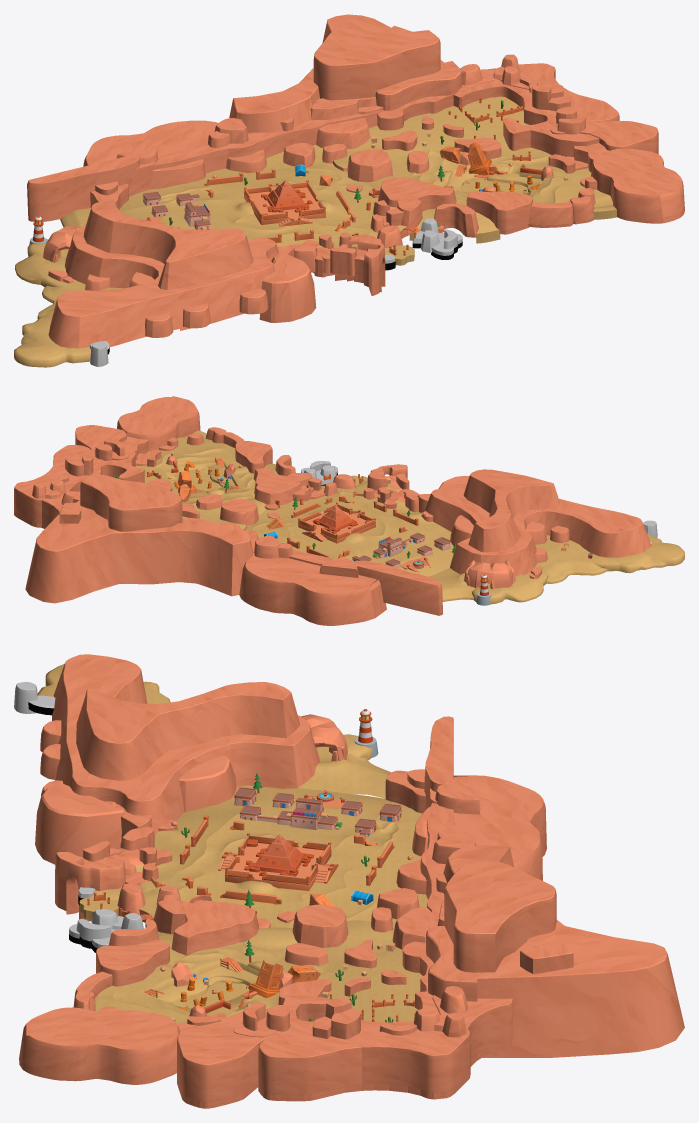
The model's file is Desert_island_V3.fbx.
3 renders of one model, top to bottom at view 1: azimuth 30°, elevation 25°; view 2: azimuth 150°, elevation 25°; view 3: azimuth 270°, elevation 25°, orthographic. The views are drawn at different scales.
Parts seen in each view (by area): view 1: polySurface1883; view 2: polySurface1883; view 3: polySurface1883.
Boxes of the visible parts, x1=… form: polySurface1883: x1=14, y1=14, x2=684, y2=367; polySurface1883: x1=14, y1=396, x2=684, y2=625; polySurface1883: x1=14, y1=654, x2=684, y2=1108.
Size of the model in its own units: 170 by 21.08 by 110.
